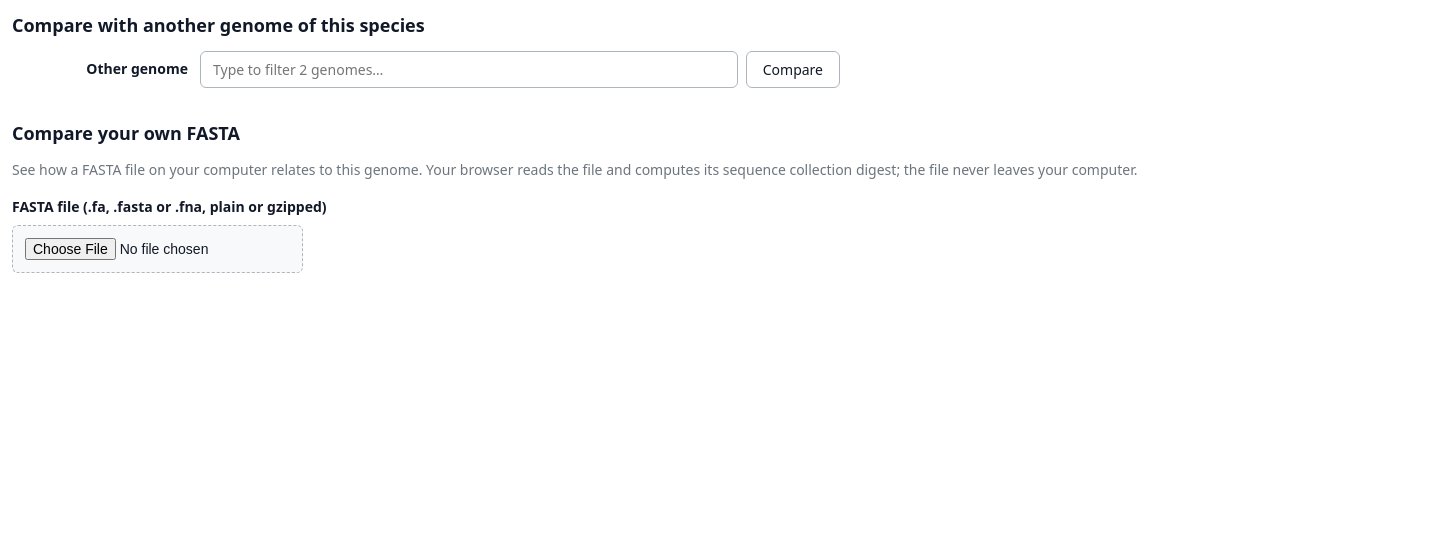
it: ComparePanel › compares with the genome an alias or partial name picks on Enter
Type "MITO" into the field labelled "Other genome" at (469, 70), box [200,51,738,88]
Then press Enter
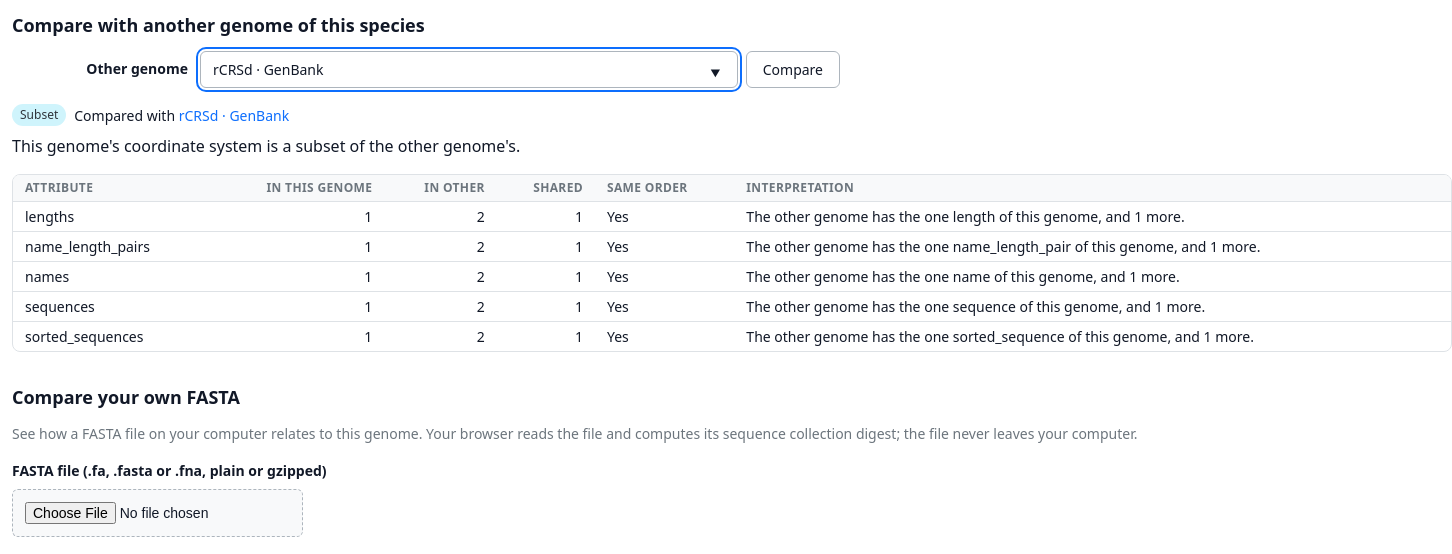
Now the link "rCRSd · GenBank" is shown, box [179,106,289,125]
Replace the text in the field labelled "Other genome" with "primary" at (469, 70), box [200,51,738,88]
Then press Enter
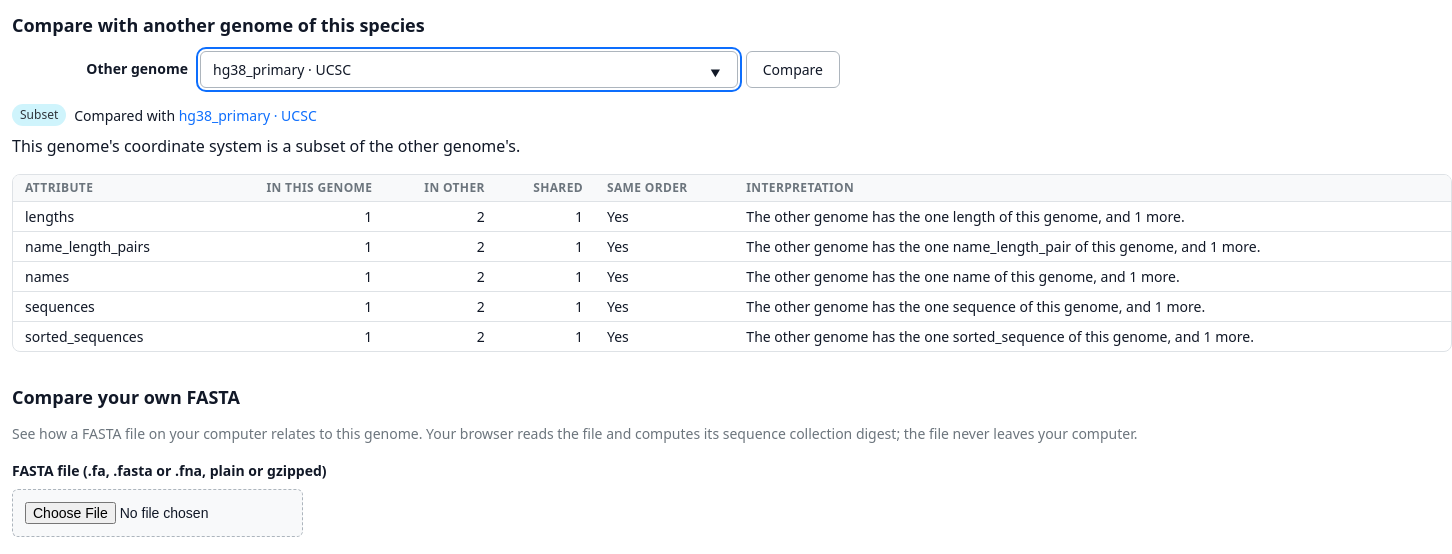
Now the field labelled "Other genome" holds "hg38_primary · UCSC", box [200,51,738,88]
Now the link "hg38_primary · UCSC" is shown, box [179,106,317,125]
